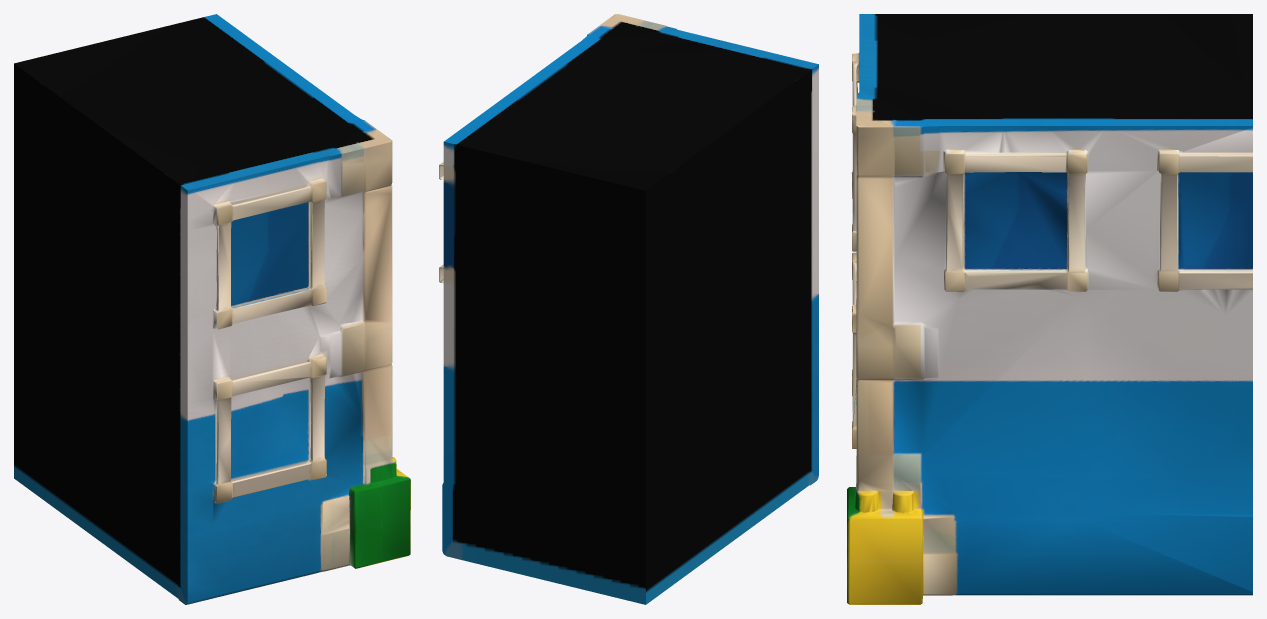
File: 2-ground-floor-front-right.fbx
The picture shows the model from 3 angles, left to right: view 1: azimuth 30°, elevation 25°; view 2: azimuth 150°, elevation 25°; view 3: azimuth 270°, elevation 25°; orthographic projection. The views are drawn at different scales.
Parts seen in each view (by area): view 1: ground-floor-front-right; view 2: ground-floor-front-right; view 3: ground-floor-front-right.
Part boxes in pixels (<box>): ground-floor-front-right: <box>14,14,410,604</box>; ground-floor-front-right: <box>439,14,818,604</box>; ground-floor-front-right: <box>847,14,1252,604</box>.
Bounding box in the file's own units: 4702 × 8546 × 6660.
1 material, 1 textured.
